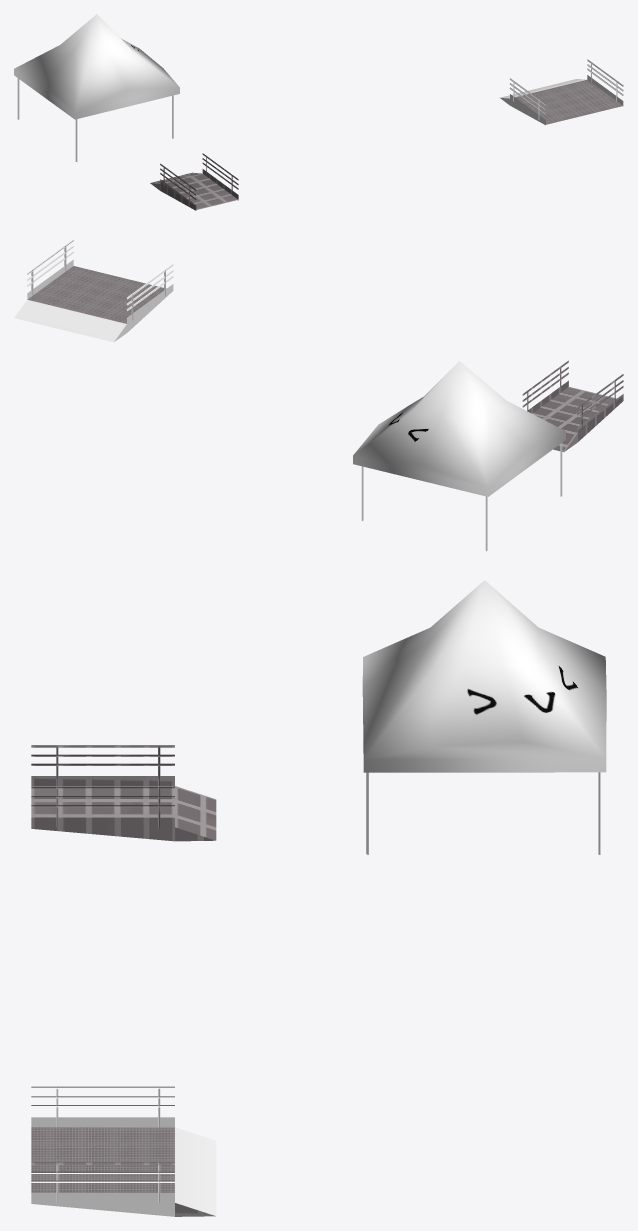
File: terasse_tente.gltf
3 renders of one model, top to bottom at view 1: azimuth 30°, elevation 25°; view 2: azimuth 150°, elevation 25°; view 3: azimuth 270°, elevation 25°, orthographic. The views are drawn at different scales.
Visible parts, largest first — view 1: Plane002_1, Plane008_1, Plane008, Plane002; view 2: Plane002_1, Plane008_1, Plane008, Plane002; view 3: Plane002_1, Plane008_1, Plane008.
Boxes of the visible parts, x1=… form: Plane002_1: x1=14, y1=14, x2=179, y2=119; Plane008_1: x1=150, y1=60, x2=623, y2=210; Plane008: x1=500, y1=59, x2=623, y2=125; Plane002: x1=17, y1=78, x2=173, y2=161; Plane002_1: x1=353, y1=361, x2=565, y2=496; Plane008_1: x1=27, y1=240, x2=623, y2=452; Plane008: x1=14, y1=239, x2=173, y2=342; Plane002: x1=361, y1=443, x2=562, y2=550; Plane002_1: x1=362, y1=580, x2=606, y2=772; Plane008_1: x1=31, y1=745, x2=216, y2=1216; Plane008: x1=31, y1=1086, x2=216, y2=1216.
Size of the model in its own units: 10.38 by 2.48 by 5.54.
3 materials, 2 textured.
